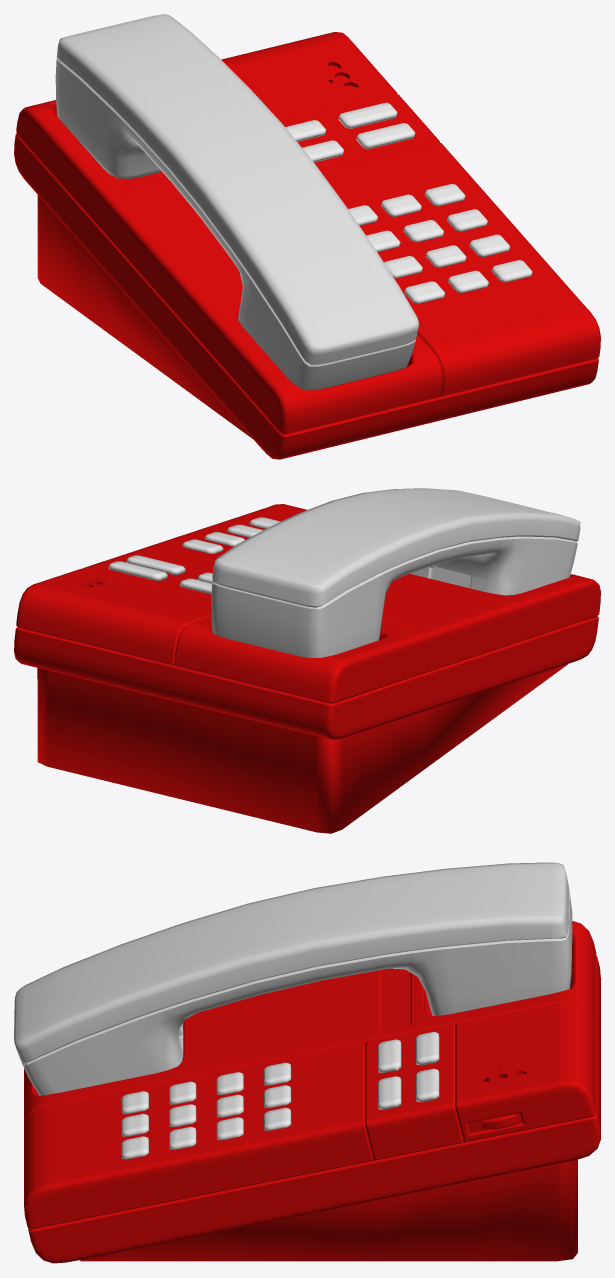
File: telefoni.fbx
3 renders of one model, top to bottom at view 1: azimuth 30°, elevation 25°; view 2: azimuth 150°, elevation 25°; view 3: azimuth 270°, elevation 25°, orthographic. The views are drawn at different scales.
Parts seen in each view (by area): view 1: Phone, Phone.001, Phone.004, Phone.005, Phone.012, Phone.003, Phone.016, Phone.017, Phone.002, Phone.011, Phone.014, Phone.013 (+4 smaller); view 2: Phone, Phone.001, Phone.005, Phone.004; view 3: Phone, Phone.001, Phone.004, Phone.005, Phone.006, Phone.008, Phone.011, Phone.014, Phone.012, Phone.013, Phone.015, Phone.018 (+6 smaller).
Part boxes in pixels (left/top/right/bottom): Phone: left=14, top=32, right=600, bottom=459; Phone.001: left=55, top=14, right=418, bottom=390; Phone.004: left=356, top=123, right=415, bottom=149; Phone.005: left=338, top=102, right=397, bottom=128; Phone.012: left=469, top=234, right=510, bottom=257; Phone.003: left=448, top=270, right=488, bottom=293; Phone.016: left=424, top=184, right=465, bottom=206; Phone.017: left=381, top=194, right=421, bottom=217; Phone.002: left=491, top=260, right=532, bottom=282; Phone.011: left=425, top=245, right=466, bottom=267; Phone.014: left=403, top=220, right=444, bottom=242; Phone.013: left=447, top=209, right=487, bottom=231; Phone: left=14, top=504, right=600, bottom=833; Phone.001: left=211, top=488, right=580, bottom=657; Phone.005: left=108, top=561, right=167, bottom=580; Phone.004: left=126, top=555, right=185, bottom=574; Phone: left=24, top=921, right=600, bottom=1263; Phone.001: left=14, top=862, right=572, bottom=1095; Phone.004: left=378, top=1076, right=401, bottom=1109; Phone.005: left=416, top=1068, right=439, bottom=1102; Phone.006: left=416, top=1031, right=439, bottom=1065; Phone.008: left=378, top=1039, right=401, bottom=1073; Phone.011: left=169, top=1104, right=196, bottom=1127; Phone.014: left=216, top=1094, right=243, bottom=1117; Phone.012: left=169, top=1126, right=196, bottom=1149; Phone.013: left=216, top=1117, right=243, bottom=1140; Phone.015: left=216, top=1072, right=243, bottom=1095; Phone.018: left=264, top=1062, right=291, bottom=1085.
Size of the model in its own units: 16.14 by 11.54 by 24.18.
